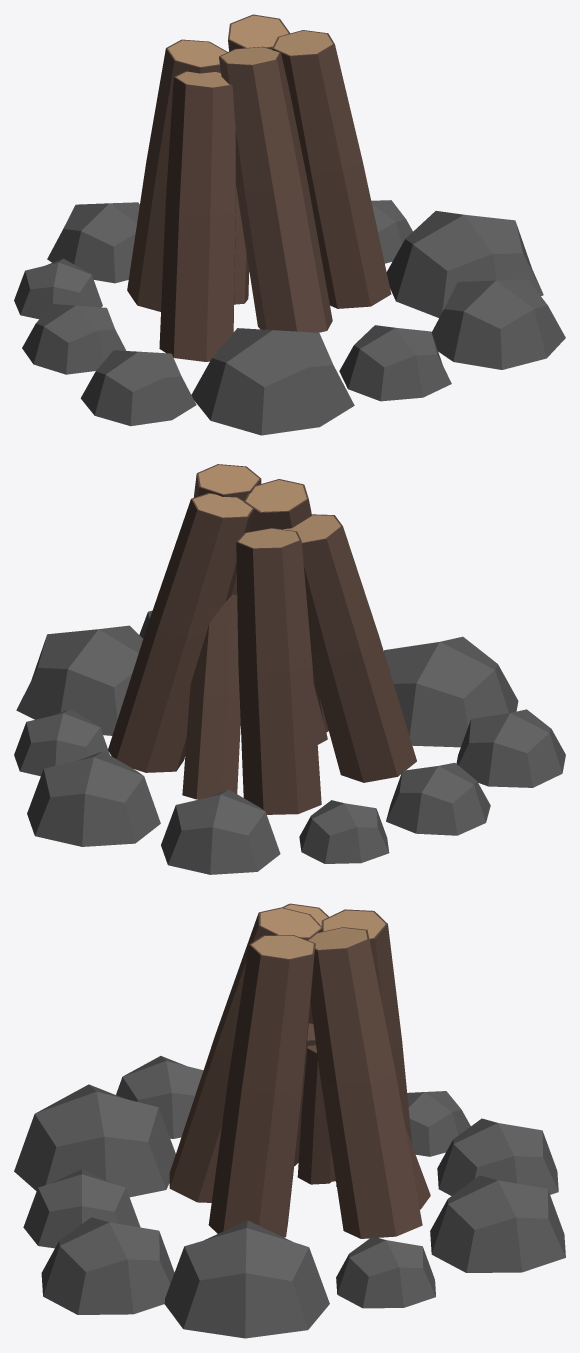
The model's file is Bonfire (1).fbx.
3 views of the same model, one above another, from view 1: azimuth 30°, elevation 25°; view 2: azimuth 150°, elevation 25°; view 3: azimuth 270°, elevation 25° (orthographic). The views are drawn at different scales.
Visible parts, largest first — view 1: KiVIÄ.001; view 2: KiVIÄ.001; view 3: KiVIÄ.001.
Boxes of the visible parts, bbox=[...] form: KiVIÄ.001: bbox=[14, 14, 565, 435]; KiVIÄ.001: bbox=[14, 464, 565, 874]; KiVIÄ.001: bbox=[14, 903, 565, 1338].
Size of the model in its own units: 247 by 134 by 232.
